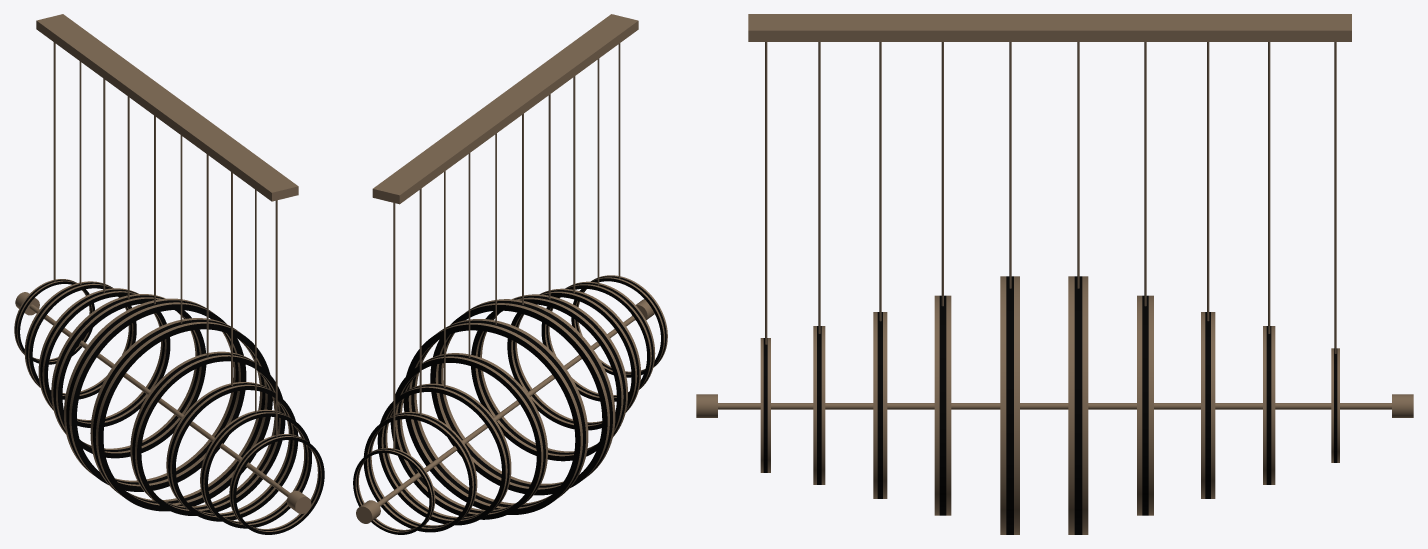
Rendered from Fancy_Lamp.FBX.
3 views of the same model, side by side, from view 1: azimuth 30°, elevation 25°; view 2: azimuth 150°, elevation 25°; view 3: azimuth 270°, elevation 25° (orthographic). The views are drawn at different scales.
Visible parts, largest first — view 1: 12_obj(1002189), 29_obj(1002189), 16_obj(1002189), 31_obj(1002189), 19_obj(1002189), 34_obj(1002189), 17_obj(1002189), 28_obj(1002189), 22_obj(1002189), 32_obj(1002189), 20_obj(1002189), 38_obj(1002189) (+21 smaller); view 2: 12_obj(1002189), 16_obj(1002189), 29_obj(1002189), 19_obj(1002189), 31_obj(1002189), 17_obj(1002189), 22_obj(1002189), 28_obj(1002189), 34_obj(1002189), 26_obj(1002189), 32_obj(1002189), 20_obj(1002189) (+21 smaller); view 3: 12_obj(1002189), 47_obj(1002189), 17_obj(1002189), 28_obj(1002189), 20_obj(1002189), 32_obj(1002189), 16_obj(1002189), 29_obj(1002189), 23_obj(1002189), 35_obj(1002189), 31_obj(1002189), 19_obj(1002189) (+12 smaller).
Part boxes in pixels (box(x1,y1,x2,y2)): 12_obj(1002189): box(36, 14, 298, 201); 29_obj(1002189): box(93, 319, 272, 511); 16_obj(1002189): box(66, 300, 246, 491); 31_obj(1002189): box(132, 353, 285, 515); 19_obj(1002189): box(53, 295, 206, 458); 34_obj(1002189): box(168, 383, 298, 521); 17_obj(1002189): box(64, 298, 240, 486); 28_obj(1002189): box(90, 318, 267, 505); 22_obj(1002189): box(40, 289, 170, 427); 32_obj(1002189): box(130, 351, 280, 510); 20_obj(1002189): box(51, 294, 201, 453); 38_obj(1002189): box(201, 411, 311, 528); 12_obj(1002189): box(372, 14, 638, 204); 16_obj(1002189): box(403, 320, 585, 514); 29_obj(1002189): box(430, 301, 612, 495); 19_obj(1002189): box(390, 354, 545, 519); 31_obj(1002189): box(471, 296, 625, 461); 17_obj(1002189): box(408, 319, 588, 508); 22_obj(1002189): box(377, 385, 509, 525); 28_obj(1002189): box(435, 299, 615, 489); 34_obj(1002189): box(507, 290, 639, 430); 26_obj(1002189): box(363, 413, 475, 532); 32_obj(1002189): box(475, 294, 627, 456); 20_obj(1002189): box(395, 353, 547, 514); 12_obj(1002189): box(748, 14, 1351, 41); 47_obj(1002189): box(718, 403, 1391, 409); 17_obj(1002189): box(1068, 276, 1088, 534); 28_obj(1002189): box(1000, 276, 1019, 534); 20_obj(1002189): box(1137, 295, 1153, 515); 32_obj(1002189): box(934, 295, 951, 515); 16_obj(1002189): box(1074, 276, 1082, 534); 29_obj(1002189): box(1006, 276, 1013, 534); 23_obj(1002189): box(1201, 312, 1215, 498); 35_obj(1002189): box(873, 312, 887, 498); 31_obj(1002189): box(939, 295, 946, 515); 19_obj(1002189): box(1142, 295, 1148, 515).
Bounding box in the file's own units: 432 × 923 × 1197.
